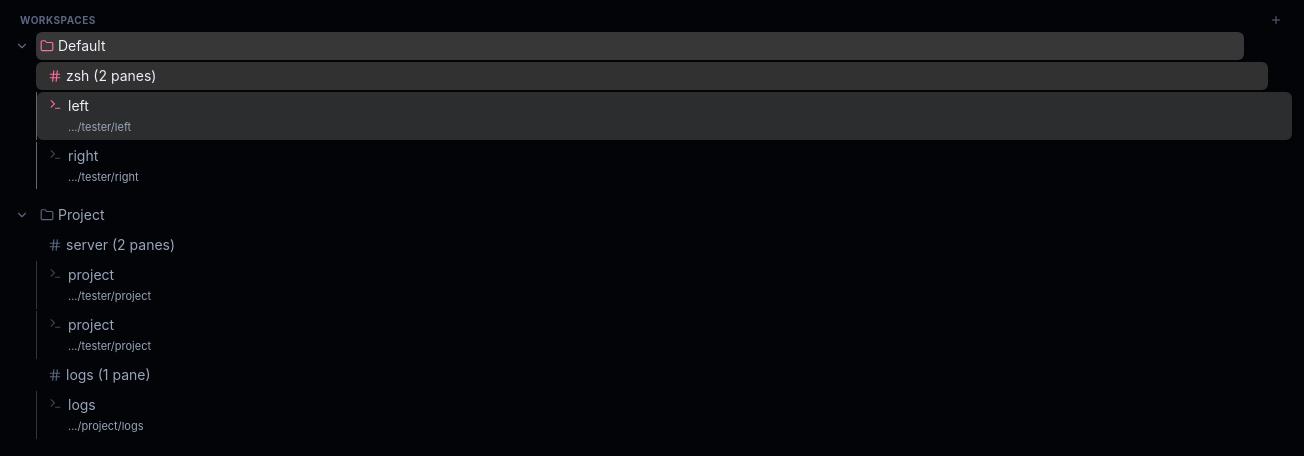
it: WorkspacesView › Pane context menu (Create Tab from Pane) › disables the action with a reason for a lone-pane tab
# that lone pane row is right-clicked.
Right-click the button "logs .../project/logs" at [106, 426], box [37,391,1292,438]
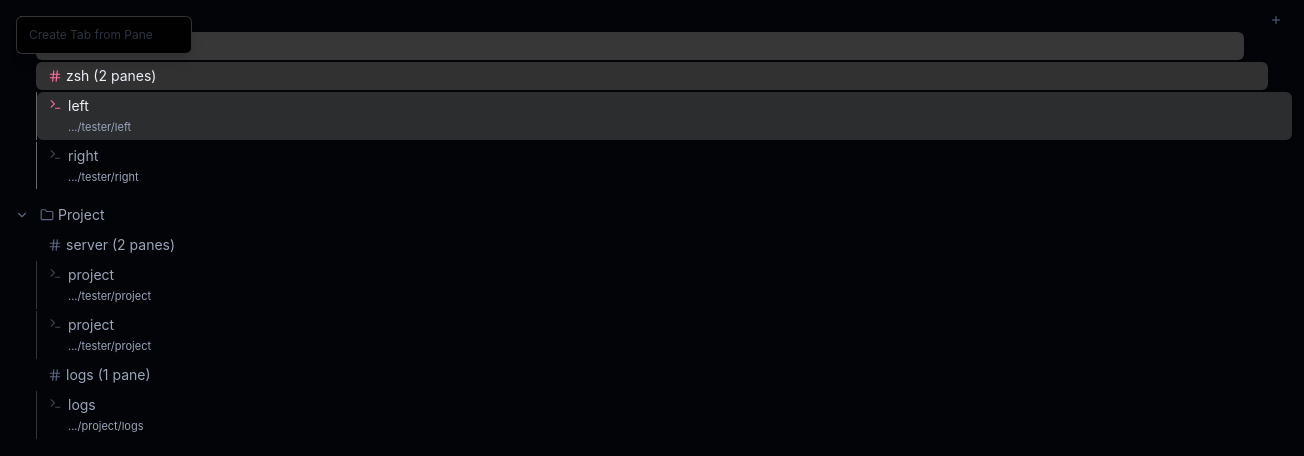
Now the menu item "Create Tab from Pane" is disabled, box [17,21,191,49]
